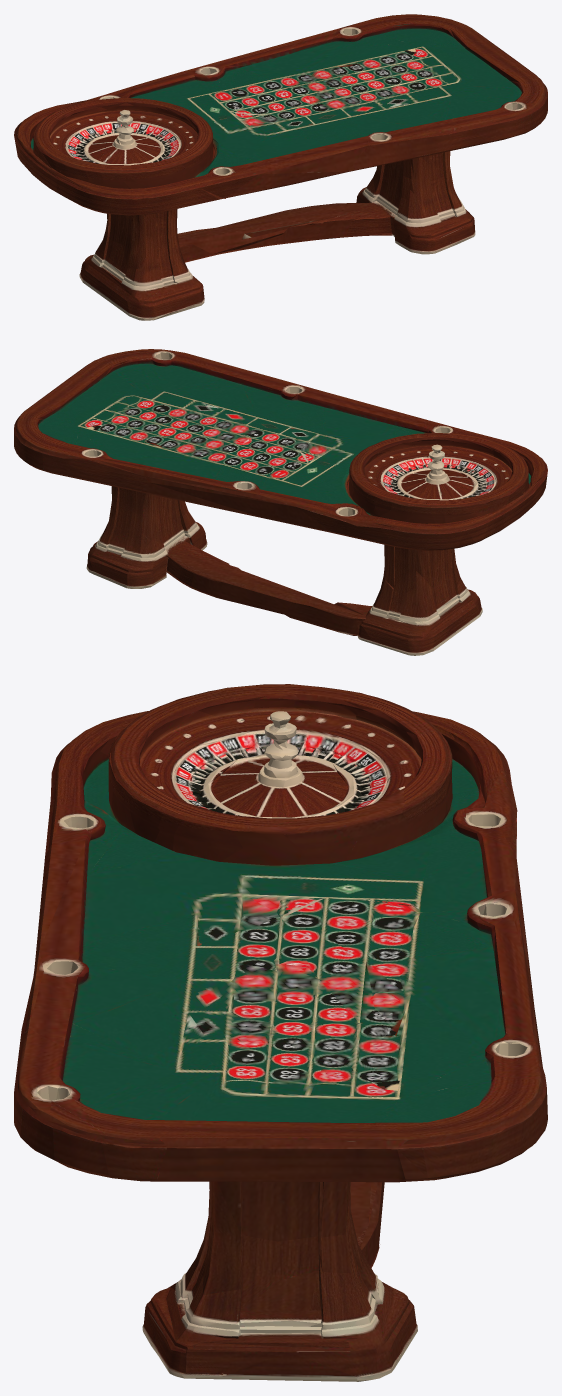
Rendered from roulette.glb.
3 views of the same model, one above another, from view 1: azimuth 30°, elevation 25°; view 2: azimuth 150°, elevation 25°; view 3: azimuth 270°, elevation 25° (orthographic). The views are drawn at different scales.
Parts seen in each view (by area): view 1: output_unwrapped; view 2: output_unwrapped; view 3: output_unwrapped.
Boxes of the visible parts, x1=… form: output_unwrapped: x1=14, y1=14, x2=547, y2=320; output_unwrapped: x1=14, y1=349, x2=547, y2=655; output_unwrapped: x1=14, y1=684, x2=547, y2=1381.
Size of the model in its own units: 2.92 by 1.1 by 1.49.
1 material, 1 textured.
